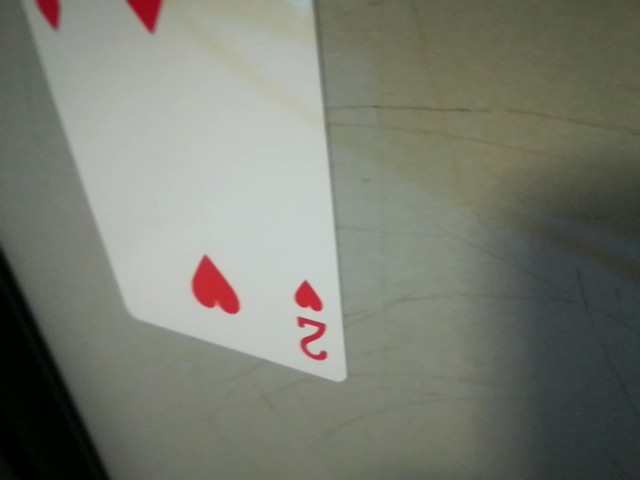hx 2: (280, 270, 343, 371)
